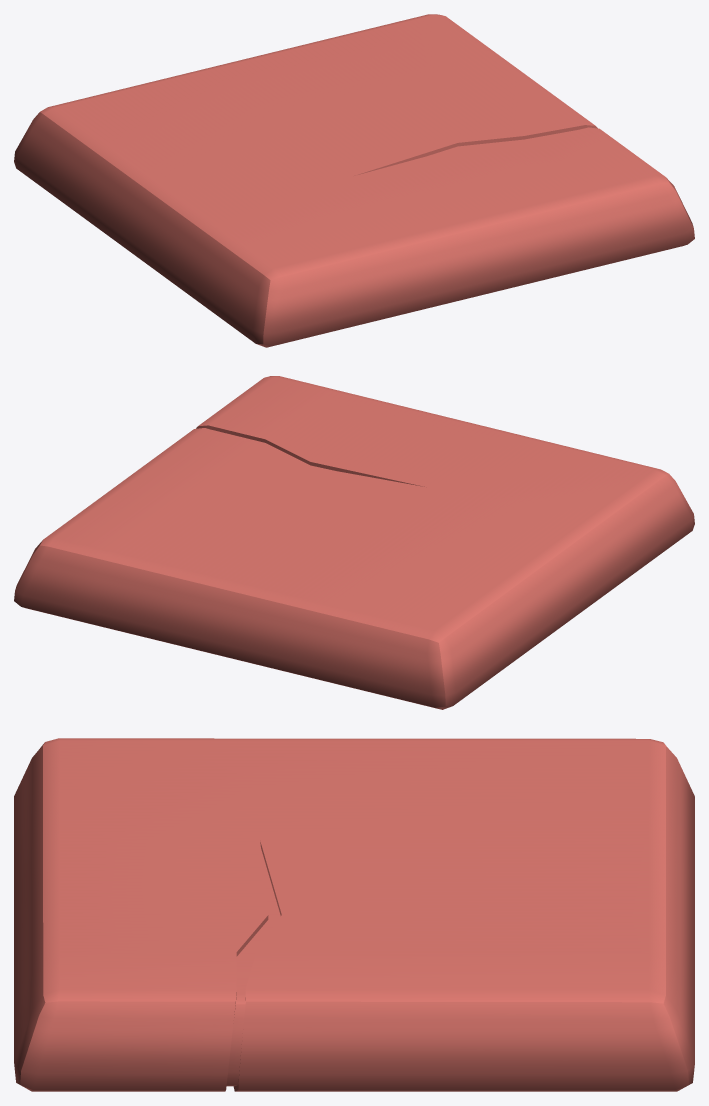
File: SM_Dalle_03.fbx
3 views of the same model, one above another, from view 1: azimuth 30°, elevation 25°; view 2: azimuth 150°, elevation 25°; view 3: azimuth 270°, elevation 25° (orthographic). The views are drawn at different scales.
Visible parts, largest first — view 1: Dalle_03; view 2: Dalle_03; view 3: Dalle_03.
Boxes of the visible parts, x1,y1,x2,y2 form: Dalle_03: [14, 14, 694, 347]; Dalle_03: [14, 376, 694, 709]; Dalle_03: [14, 738, 694, 1091].
Size of the model in its own units: 117 by 17.04 by 117.
